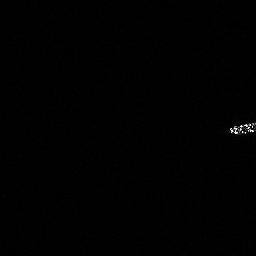ship: (227, 121, 256, 136)
